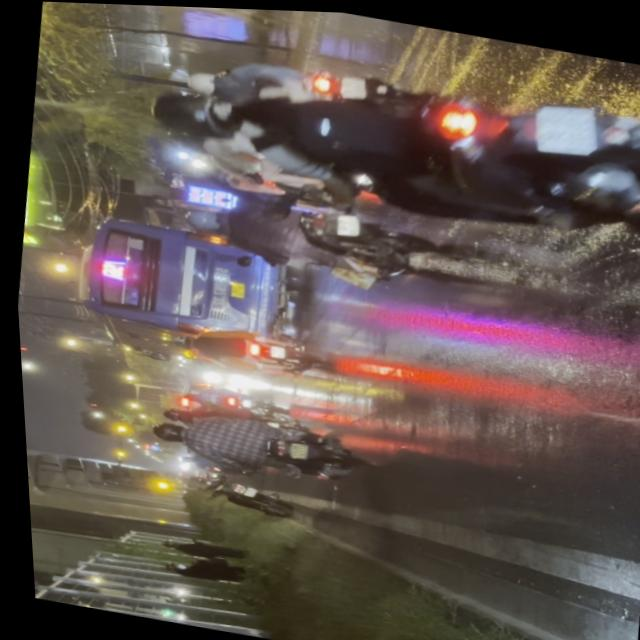helmet: (138, 75, 250, 150), (175, 202, 228, 236), (140, 418, 180, 446)
licenseplate: (127, 22, 640, 256), (167, 176, 444, 296), (135, 395, 373, 497)
nohelmet: (529, 96, 595, 156), (331, 210, 358, 236), (283, 440, 304, 459)
